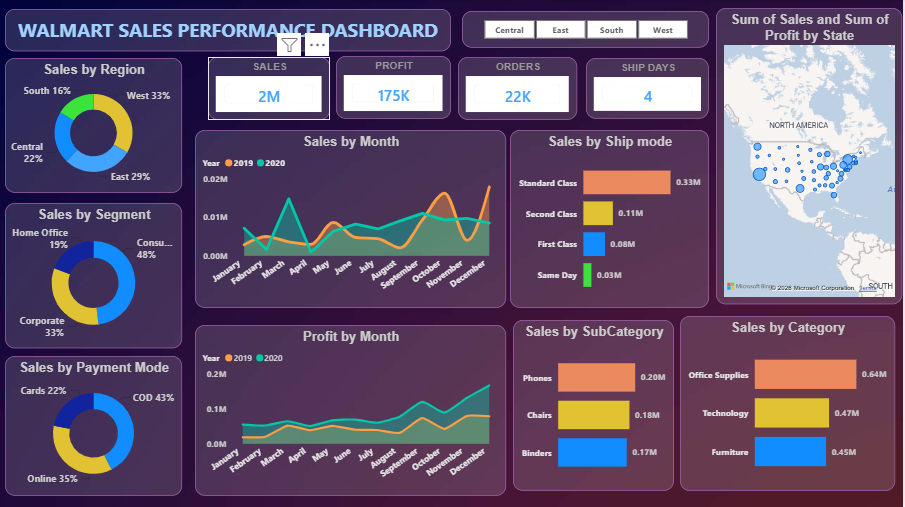

Layout of this report page (visuals, bound fields, positions):
{"tool":"powerbi","page":{"name":"Page 1","canvas":[1280,720],"ordinal":0},"visuals":[{"type":"clusteredBarChart","title":" Sales by Category","fields":{"Category":["walmart super mart.Category"],"Y":["Sum(walmart super mart.Sales)"]},"box":[965.2,449.3,304.7,248],"z":0},{"type":"clusteredBarChart","title":" Sales by SubCategory","fields":{"Category":["walmart super mart.Sub-Category"],"Y":["Sum(walmart super mart.Sales)"]},"box":[728.5,455,228.2,242.4],"z":1000},{"type":"clusteredBarChart","title":" Sales by Ship mode","fields":{"Category":["walmart super mart.Ship Mode"],"Y":["Sum(walmart super mart.Sales)"]},"box":[724.3,185.7,282,252.3],"z":2000},{"type":"areaChart","title":"Profit by Month","fields":{"Y":["Sum(walmart super mart.Sales)"],"Category":["walmart super mart.Order Date.Variation.Date Hierarchy.Month"],"Series":["walmart super mart.Order Date.Variation.Date Hierarchy.Year"]},"box":[277.8,462,440.8,242.4],"z":3000},{"type":"areaChart","title":"Sales by Month","fields":{"Category":["walmart super mart.Order Date.Variation.Date Hierarchy.Month"],"Series":["walmart super mart.Order Date.Variation.Date Hierarchy.Year"],"Y":["Sum(walmart super mart.Profit)"]},"box":[277.8,185.7,440.8,252.3],"z":4000},{"type":"map","fields":{"Category":["walmart super mart.State"],"Size":["Sum(walmart super mart.Sales)"]},"box":[1016.2,12.8,263.6,419.5],"z":5000},{"type":"donutChart","title":" Sales by Segment","fields":{"Category":["walmart super mart.Segment"],"Y":["Sum(walmart super mart.Sales)"]},"box":[8.5,289.1,250.9,205.5],"z":6000},{"type":"donutChart","title":"Sales by Payment Mode","fields":{"Category":["walmart super mart.Payment Mode"],"Y":["Sum(walmart super mart.Sales)"]},"box":[8.5,506,250.9,198.4],"z":7000},{"type":"slicer","fields":{"Values":["walmart super mart.Region"]},"box":[656.2,17,350.1,52.4],"z":8000},{"type":"textbox","box":[8.5,14.2,632.1,59.5],"z":9000},{"type":"cardVisual","title":"SALES","fields":{"Data":["Sum(walmart super mart.Sales)"]},"box":[296.2,82.2,172.9,89.3],"z":10000},{"type":"cardVisual","title":"PROFIT ","fields":{"Data":["Sum(walmart super mart.Profit)"]},"box":[477.6,80.8,163,89.3],"z":11000},{"type":"cardVisual","title":"ORDERS","fields":{"Data":["Sum(walmart super mart.Quantity)"]},"box":[650.6,82.2,168.7,89.3],"z":12000},{"type":"cardVisual","title":"SHIP DAYS","fields":{"Data":["Avg(walmart super mart.AVG DELIVERY)"]},"box":[832,83.6,174.3,86.5],"z":13000},{"type":"donutChart","title":" Sales by Region","fields":{"Category":["walmart super mart.Region"],"Y":["Sum(walmart super mart.Sales)"]},"box":[8.5,83.6,250.9,191.3],"z":14000}]}

Visuals, with their boxes in screenshot pixels (x1, y1, x2, y2), scaled from the page's 1280x720 canvas onto the 905x507 screenshot:
" Sales by Category" clusteredBarChart: crop(682, 316, 898, 491)
" Sales by SubCategory" clusteredBarChart: crop(515, 320, 676, 491)
" Sales by Ship mode" clusteredBarChart: crop(512, 131, 711, 308)
"Profit by Month" areaChart: crop(196, 325, 508, 496)
"Sales by Month" areaChart: crop(196, 131, 508, 308)
map - walmart super mart.State x Sum(walmart super mart.Sales): crop(718, 9, 904, 304)
" Sales by Segment" donutChart: crop(6, 204, 183, 348)
"Sales by Payment Mode" donutChart: crop(6, 356, 183, 496)
slicer - walmart super mart.Region: crop(464, 12, 711, 49)
textbox: crop(6, 10, 453, 52)
"SALES" cardVisual: crop(209, 58, 332, 121)
"PROFIT " cardVisual: crop(338, 57, 453, 120)
"ORDERS" cardVisual: crop(460, 58, 579, 121)
"SHIP DAYS" cardVisual: crop(588, 59, 711, 120)
" Sales by Region" donutChart: crop(6, 59, 183, 194)
